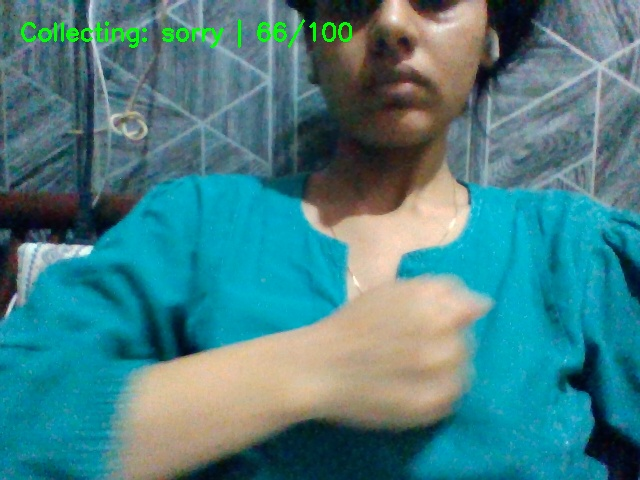sorry: (271, 265, 514, 453)
